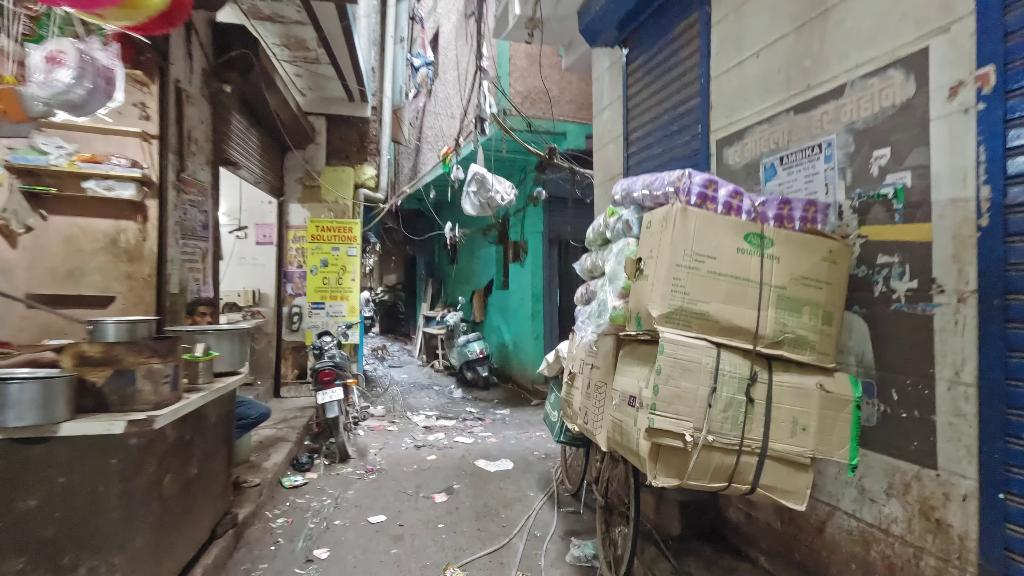garbage: (564, 537, 601, 568), (475, 456, 516, 473), (280, 474, 310, 490), (368, 514, 388, 526), (431, 493, 449, 504), (453, 436, 476, 444), (428, 431, 446, 441), (435, 418, 457, 426), (452, 387, 463, 398)
